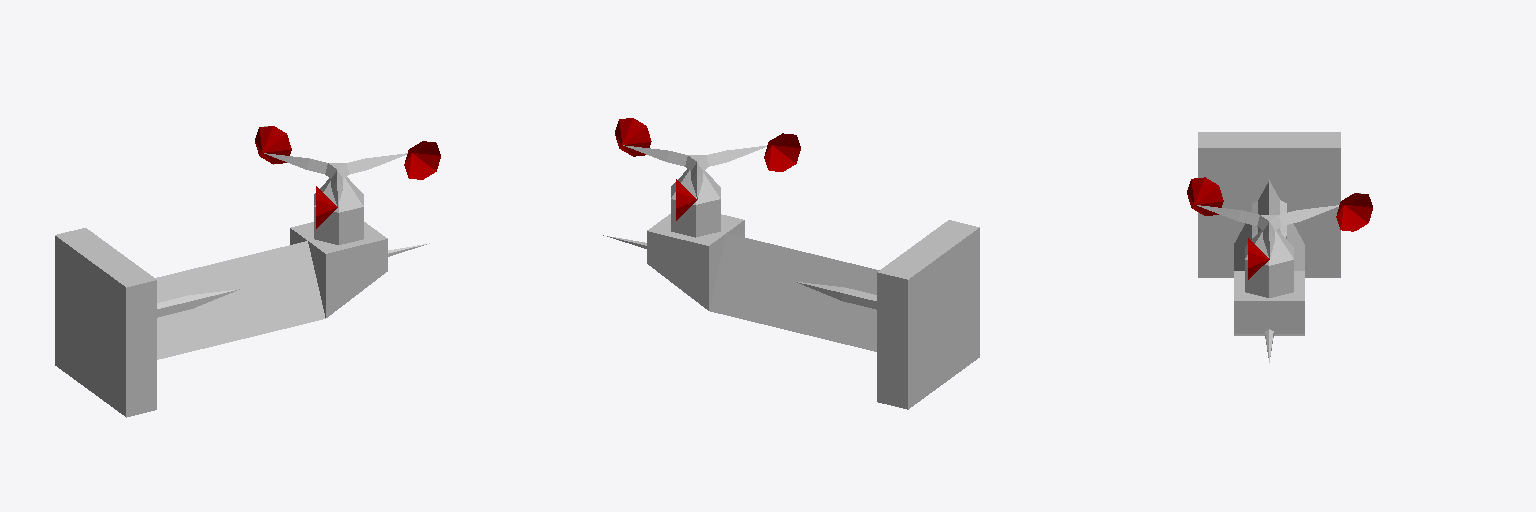
3 renders of one model, left to right at view 1: azimuth 30°, elevation 25°; view 2: azimuth 150°, elevation 25°; view 3: azimuth 270°, elevation 25°, orthographic.
Visible parts, largest first — view 1: base_wall, base_ground, anemometer; view 2: base_wall, base_ground, anemometer; view 3: base_ground, base_wall, anemometer.
Boxes of the visible parts, x1=… form: base_wall: x1=155, y1=177, x2=387, y2=359; base_ground: x1=55, y1=228, x2=429, y2=417; anemometer: x1=255, y1=126, x2=440, y2=228; base_wall: x1=647, y1=169, x2=879, y2=351; base_ground: x1=603, y1=220, x2=979, y2=409; anemometer: x1=615, y1=118, x2=800, y2=220; base_ground: x1=1198, y1=132, x2=1340, y2=362; base_wall: x1=1234, y1=180, x2=1304, y2=335; anemometer: x1=1187, y1=177, x2=1372, y2=279.
Size of the model in its own units: 0.6875 by 0.3453 by 0.3256.
2 materials, 1 textured.